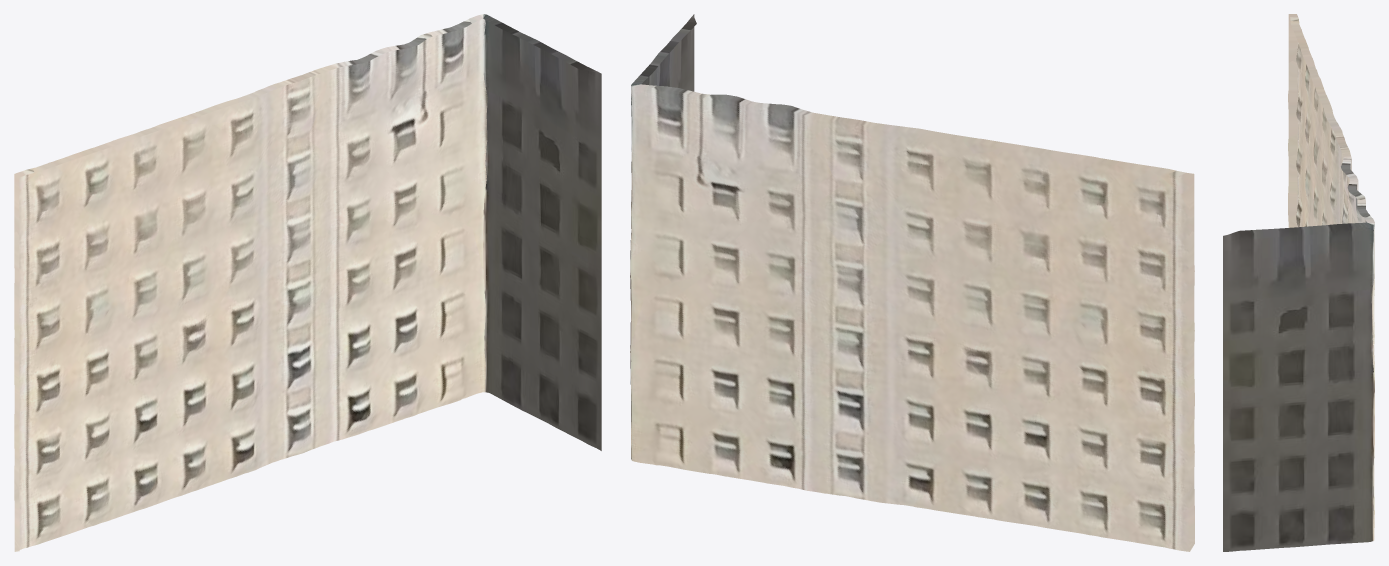
Rendered from z20-167747-405244-h1-yup-uvflip-v3-world.glb.
3 views of the same model, side by side, from view 1: azimuth 30°, elevation 25°; view 2: azimuth 150°, elevation 25°; view 3: azimuth 270°, elevation 25° (orthographic). The views are drawn at different scales.
Bounding box in the file's own units: 30.16 × 20.04 × 8.72.
1 material, 1 textured.
